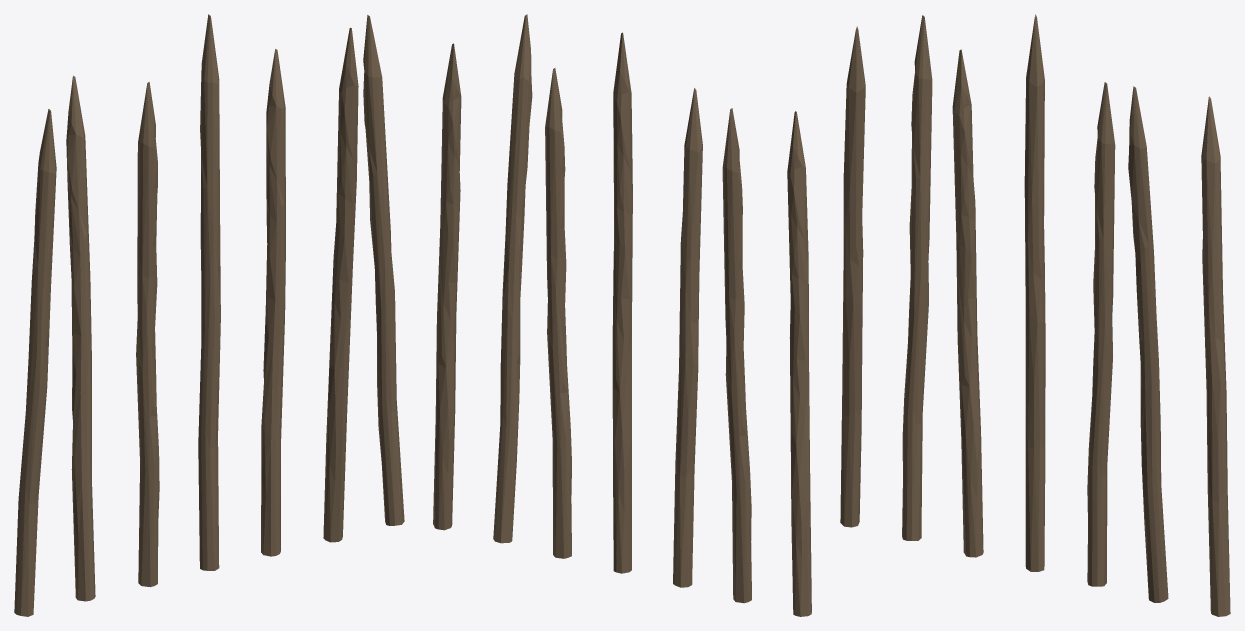
The model's file is siege_spike_c.FBX.
3 views of the same model, side by side, from view 1: azimuth 30°, elevation 25°; view 2: azimuth 150°, elevation 25°; view 3: azimuth 330°, elevation 25° (orthographic). The views are drawn at different scales.
Visible parts, largest first — view 1: siege_spike_c; view 2: siege_spike_c; view 3: siege_spike_c.
Boxes of the visible parts, x1,y1,x2,y2 form: siege_spike_c: (14,14,404,616); siege_spike_c: (433,14,811,616); siege_spike_c: (840,14,1230,616).
Size of the model in its own units: 2.02 by 2.76 by 0.3489.
